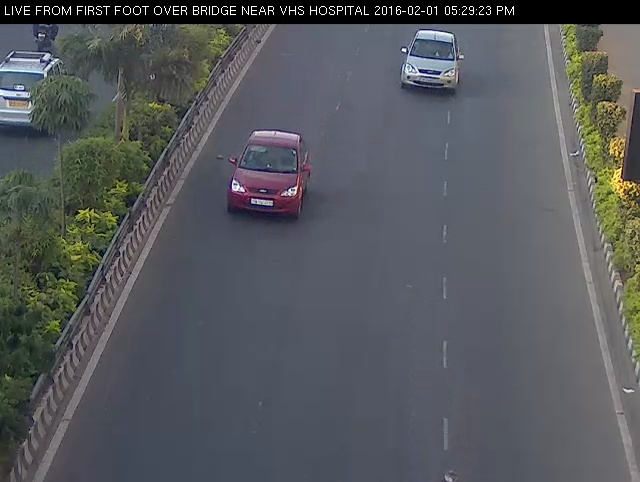Car: (222, 121, 318, 226), (388, 23, 474, 103)
